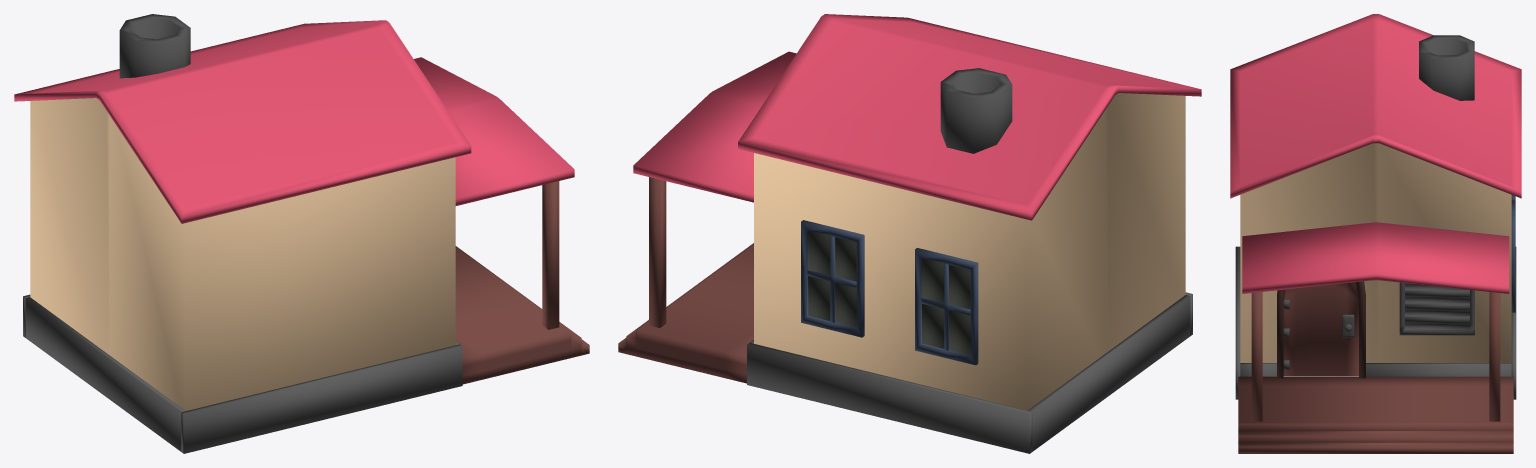
File: Casa.fbx
3 renders of one model, left to right at view 1: azimuth 30°, elevation 25°; view 2: azimuth 150°, elevation 25°; view 3: azimuth 270°, elevation 25°, orthographic. The views are drawn at different scales.
Parts seen in each view (by area): view 1: Janela Frontal; view 2: Janela Frontal; view 3: Janela Frontal.
Boxes of the visible parts, left/top/right/bottom form: Janela Frontal: left=14, top=14, right=589, bottom=453; Janela Frontal: left=618, top=14, right=1201, bottom=453; Janela Frontal: left=1230, top=14, right=1521, bottom=453.
Bounding box in the file's own units: 1102 × 801 × 774.
